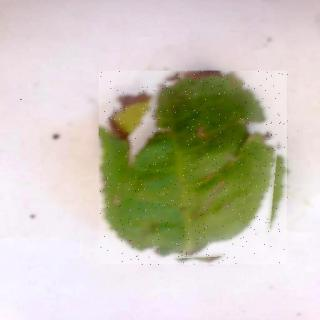Brown Blight: (101, 72, 290, 266)
